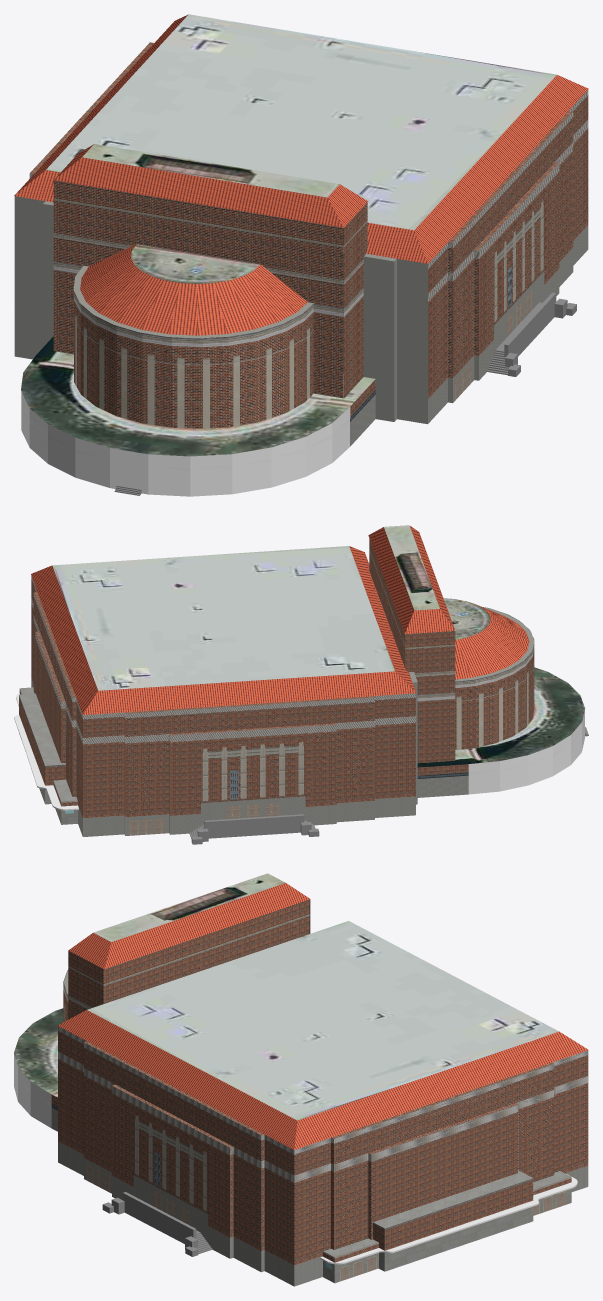
The model's file is ELLIOT.fbx.
3 renders of one model, top to bottom at view 1: azimuth 30°, elevation 25°; view 2: azimuth 150°, elevation 25°; view 3: azimuth 270°, elevation 25°, orthographic. The views are drawn at different scales.
Visible parts, largest first — view 1: Pyramid01_1, wall_ar_side1, zhongwall1, Group24, Group2, Group10, middleroof, Group11, Group16, middle, Group17, zhongwall2 (+18 smaller); view 2: Pyramid01_1, wall_ar_side2, zhongwall1, Group10, Group2, wall_ar_side3, middleroof, Group18, Group4, Group19, middle, Group8 (+11 smaller); view 3: Pyramid01_1, wall_ar_side1, wall_ar_side3, wallside_el, zhongwall2, Group10, Group4, Group2, DIZUOMEN2, Group7, DIZUOMEN1, HUXIAN1 (+3 smaller).
Part boxes in pixels (bbox=[...]): Pyramid01_1: bbox=[14, 14, 588, 263]; wall_ar_side1: bbox=[428, 90, 588, 423]; zhongwall1: bbox=[53, 157, 343, 398]; Group24: bbox=[14, 196, 427, 424]; Group2: bbox=[21, 336, 375, 456]; Group10: bbox=[54, 144, 367, 227]; middleroof: bbox=[80, 244, 307, 335]; Group11: bbox=[203, 331, 261, 428]; Group16: bbox=[147, 334, 207, 456]; middle: bbox=[73, 244, 313, 338]; Group17: bbox=[99, 318, 147, 424]; zhongwall2: bbox=[343, 202, 367, 397]; Pyramid01_1: bbox=[31, 546, 416, 714]; wall_ar_side2: bbox=[83, 693, 415, 836]; zhongwall1: bbox=[405, 631, 455, 763]; Group10: bbox=[368, 525, 455, 634]; Group2: bbox=[417, 667, 585, 767]; wall_ar_side3: bbox=[31, 576, 82, 836]; middleroof: bbox=[455, 605, 529, 679]; Group18: bbox=[456, 673, 498, 749]; Group4: bbox=[19, 693, 65, 804]; Group19: bbox=[499, 658, 526, 741]; middle: bbox=[406, 598, 534, 681]; Group8: bbox=[204, 814, 304, 838]; Pyramid01_1: bbox=[57, 921, 588, 1149]; wall_ar_side1: bbox=[58, 1026, 294, 1286]; wall_ar_side3: bbox=[294, 1050, 588, 1286]; wallside_el: bbox=[371, 1104, 518, 1239]; zhongwall2: bbox=[68, 899, 309, 1019]; Group10: bbox=[68, 873, 310, 969]; Group4: bbox=[373, 1170, 533, 1271]; Group2: bbox=[14, 1008, 63, 1097]; DIZUOMEN2: bbox=[323, 1238, 378, 1283]; Group7: bbox=[123, 1192, 196, 1243]; DIZUOMEN1: bbox=[533, 1171, 571, 1215]; HUXIAN1: bbox=[461, 1174, 577, 1228].
Size of the model in its own units: 3807 by 1346 by 3558.
